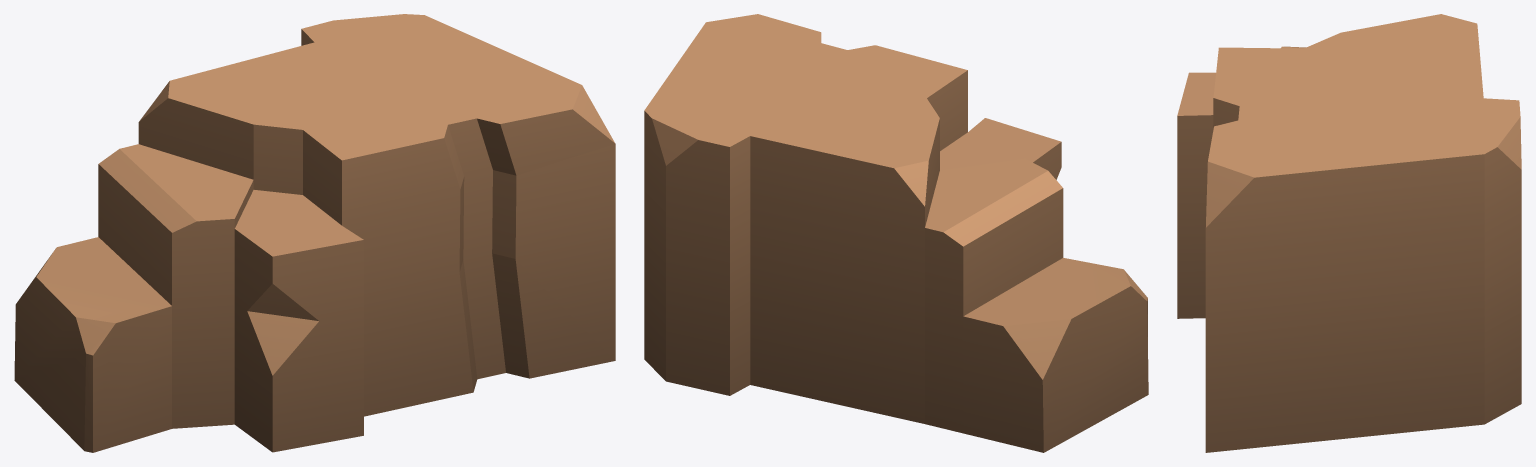
File: stone large brown.fbx
The picture shows the model from 3 angles, left to right: view 1: azimuth 30°, elevation 25°; view 2: azimuth 150°, elevation 25°; view 3: azimuth 270°, elevation 25°; orthographic projection. The views are drawn at different scales.
Parts seen in each view (by area): view 1: stone large brown; view 2: stone large brown; view 3: stone large brown.
Boxes of the visible parts, bbox=[...] form: stone large brown: bbox=[14, 14, 615, 452]; stone large brown: bbox=[644, 14, 1148, 452]; stone large brown: bbox=[1177, 14, 1521, 452].
Bounding box in the file's own units: 624 × 317 × 366.
